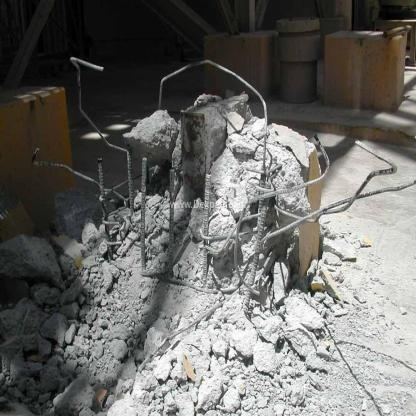rebar: (154, 57, 269, 237), (232, 131, 330, 299), (27, 142, 127, 259), (70, 54, 136, 219), (276, 135, 397, 224), (263, 179, 415, 246), (176, 173, 240, 296), (136, 297, 225, 376), (139, 154, 176, 280), (245, 200, 275, 309), (199, 227, 257, 244), (267, 146, 284, 190)
